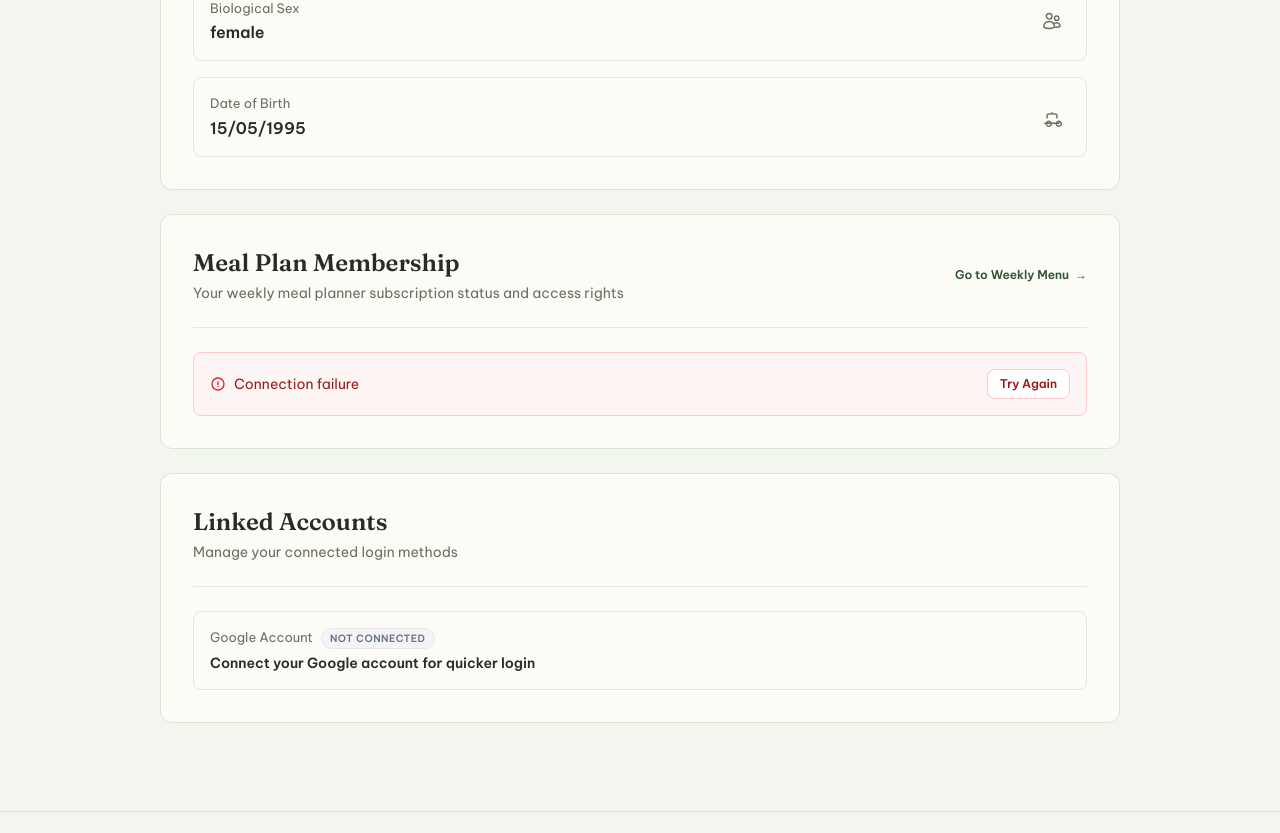
it: Phase 5: Subscription UI in Profile & My Posts › 5. Profile handles access loading state and error state with retry without breaking profile
The width and height of the screenshot is (1280, 833).
(page scrolled)
Click the button "Try Again": x=1028, y=384 [987,368,1070,398]
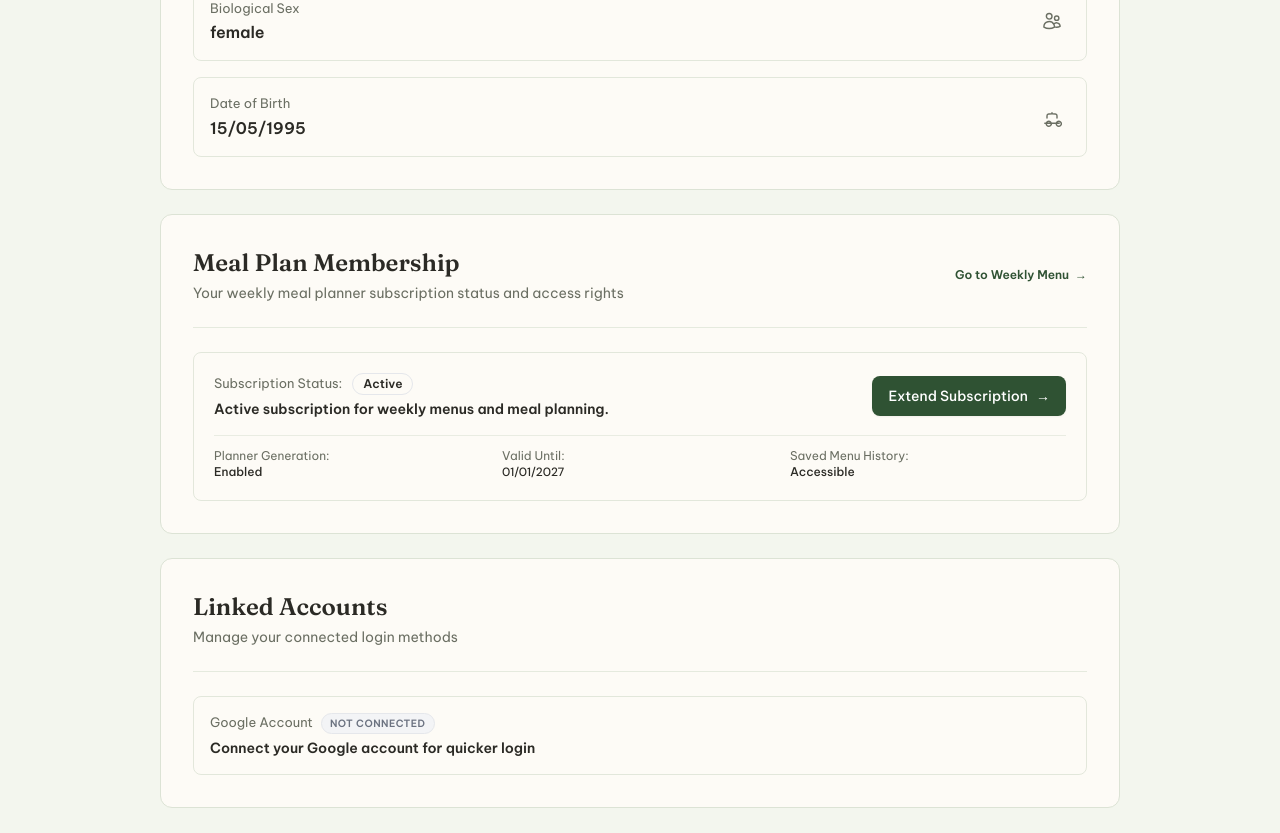
Now the text "Active" is shown, box [352,372,413,394]
